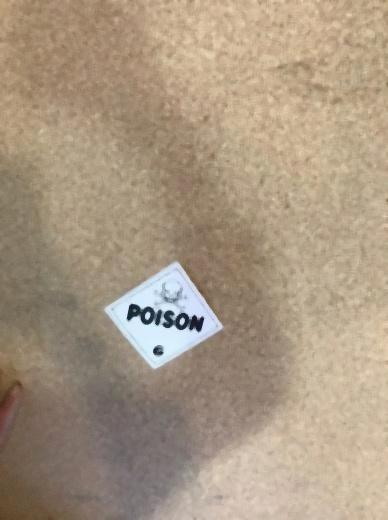poison: (101, 261, 226, 372)
